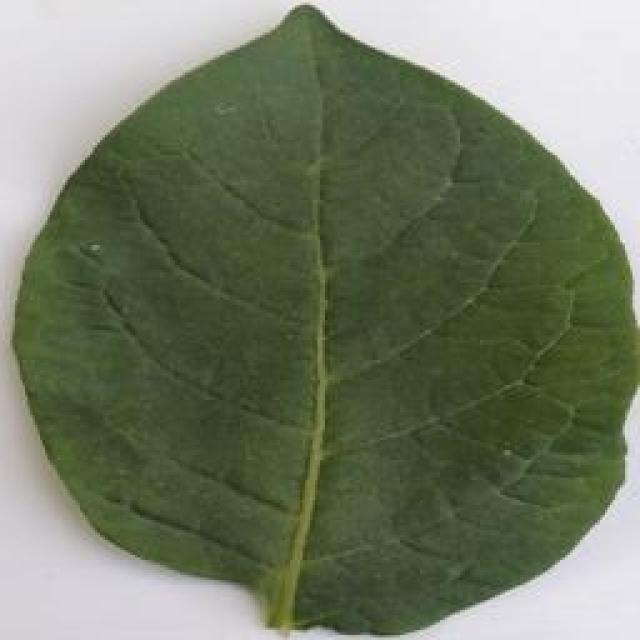Potato_Healthy: (0, 3, 630, 625)
